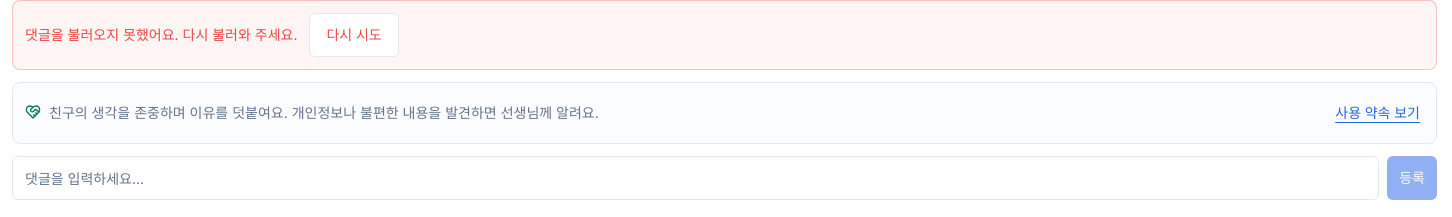
Test: 조회 실패를 빈 목록으로 표시하지 않고 재시도로 실제 댓글을 복구한다
Check: the message shows "댓글을 불러오지 못했어요", box [25,26,298,43]
Click the button "다시 시도": x=354, y=35 [310,13,399,57]
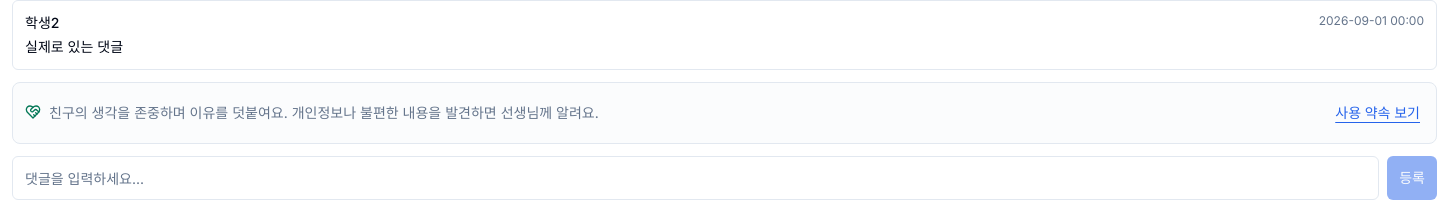
Check: the text "실제로 있는 댓글" is shown, box [25,38,123,55]
